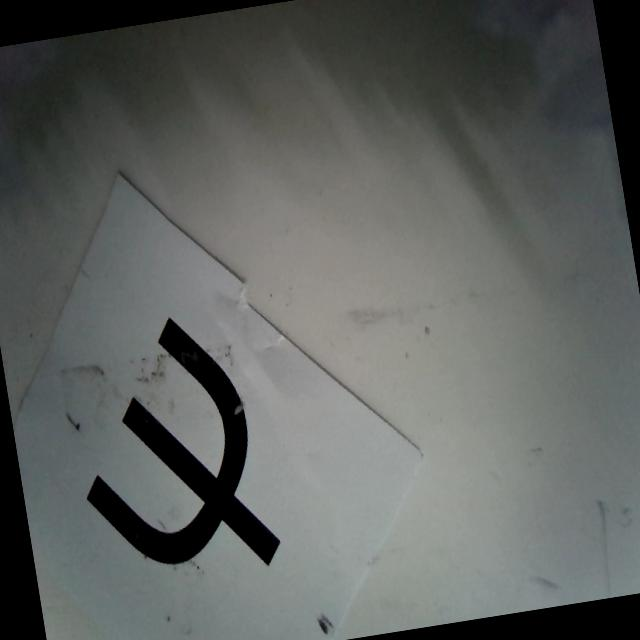nedoF: (59, 304, 284, 594)
